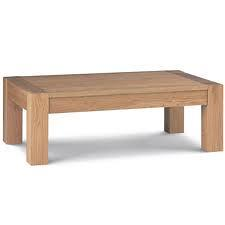table: (3, 69, 225, 166)
